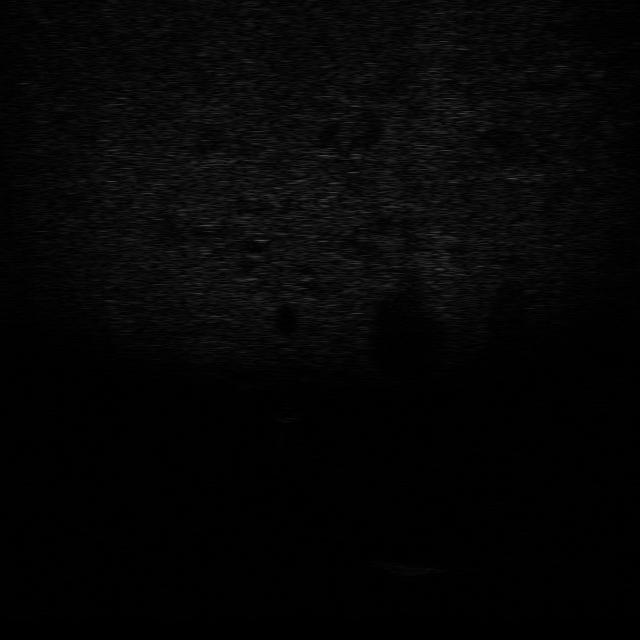ball: (266, 401, 305, 424)
metal bucket: (368, 555, 448, 578)
tyre: (489, 496, 531, 534)
